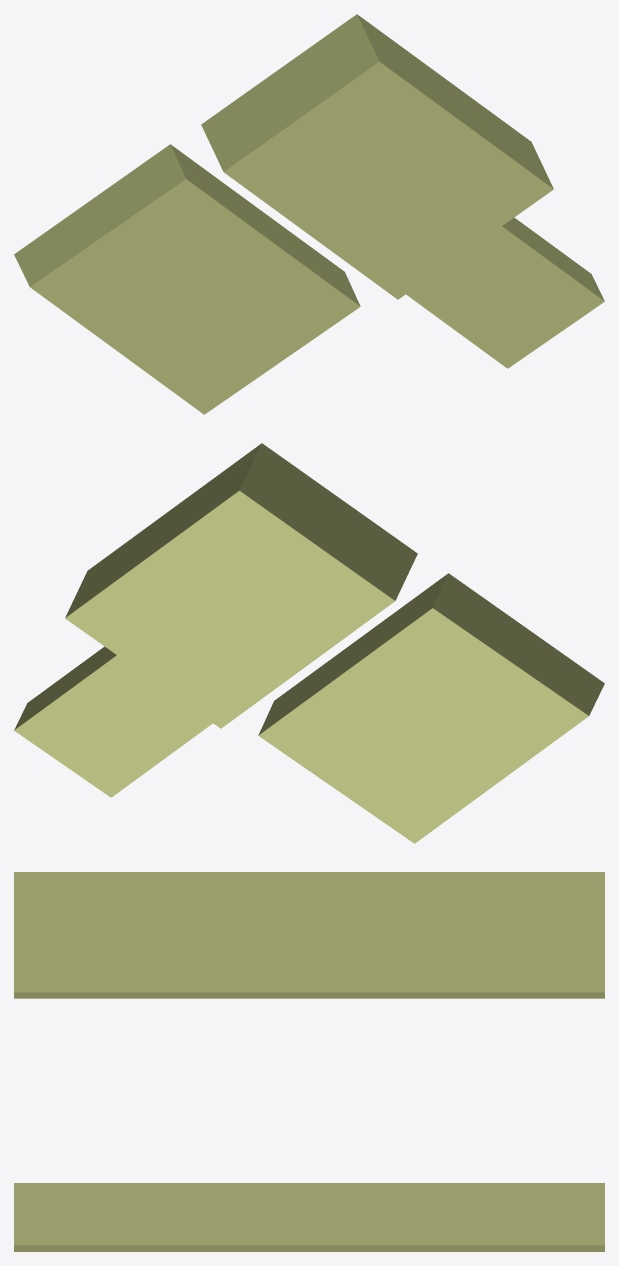
3 views of the same model, one above another, from view 1: azimuth 30°, elevation 25°; view 2: azimuth 150°, elevation 25°; view 3: azimuth 270°, elevation 25° (orthographic). The views are drawn at different scales.
Visible parts, largest first — view 1: 0_2_2_0_0_0_3_1_1_1_0; view 2: 0_2_2_0_0_0_3_1_1_1_0; view 3: 0_2_2_0_0_0_3_1_1_1_0.
Boxes of the visible parts, left/top/right/bottom form: 0_2_2_0_0_0_3_1_1_1_0: left=14, top=14, right=604, bottom=414; 0_2_2_0_0_0_3_1_1_1_0: left=14, top=443, right=604, bottom=843; 0_2_2_0_0_0_3_1_1_1_0: left=14, top=872, right=604, bottom=1251.
Size of the model in its own units: 12.4 by 6.3 by 9.
